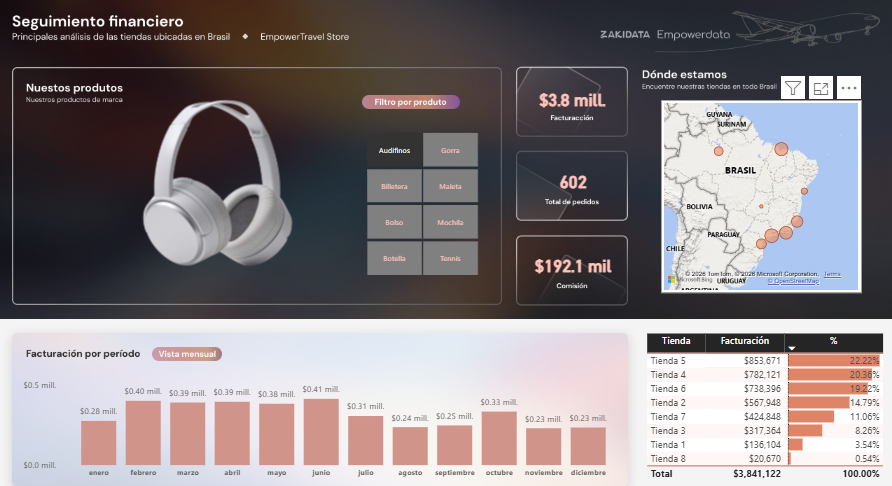

The page's visual inventory and layout, read from the dashboard file:
{"tool":"powerbi","page":{"name":"Página 1","canvas":[1280,720],"ordinal":0},"visuals":[{"type":"columnChart","fields":{"Category":["RegistroVentas.Fecha_ Pedido.Variación.Jerarquía de fechas.Mes"],"Y":["RegistroVentas.Facturación"]},"box":[30.9,517.8,868,180.6],"z":0},{"type":"ImageGrid_FC5183B9_926C_45E0_B5F7_0CE9EAF1DA9B","fields":{"ImageURLHQ":["Productos.img_url"]},"box":[0,26.8,609.5,481.4],"z":1000},{"type":"card","fields":{"Values":["RegistroVentas.Facturación"]},"box":[671.5,89.2,298.1,114.5],"z":2000},{"type":"card","fields":{"Values":["CountNonNull(RegistroVentas.Qtde)"]},"box":[683.7,218.6,274.5,89.2],"z":3000},{"type":"card","fields":{"Values":["RegistroVentas.Comisión"]},"box":[695.1,346.2,251.8,76.9],"z":4000},{"type":"tableEx","fields":{"Values":["Tiendas.nombre_Tienda","RegistroVentas.Facturación","Divide(RegistroVentas.Facturación, ScopedEval(RegistroVentas.Facturación, []))"]},"box":[920.9,475.5,352.5,222.7],"z":5000},{"type":"slicer","fields":{"Values":["Productos.descripción_producto"]},"box":[501.9,187.1,208.1,216.8],"z":6000},{"type":"map","fields":{"Category":["Tiendas.Ciudad"],"X":["Sum(Tiendas.Longitud)"],"Y":["Sum(Tiendas.Latitud)"],"Size":["RegistroVentas.Facturación"]},"box":[947.1,147.1,287.1,275.7],"z":7000}]}

Visuals, with their boxes on the page's 1280x720 design canvas (x1, y1, x2, y2). These are canvas units, not pixel positions in the 892x486 screenshot, which may show the page scaled, cropped or inside an application window:
columnChart - RegistroVentas.Fecha_ Pedido.Variación.Jerarquía de fechas.Mes x RegistroVentas.Facturación: <bbox>31, 518, 899, 698</bbox>
ImageGrid_FC5183B9_926C_45E0_B5F7_0CE9EAF1DA9B - Productos.img_url: <bbox>0, 27, 610, 508</bbox>
card - RegistroVentas.Facturación: <bbox>672, 89, 970, 204</bbox>
card - CountNonNull(RegistroVentas.Qtde): <bbox>684, 219, 958, 308</bbox>
card - RegistroVentas.Comisión: <bbox>695, 346, 947, 423</bbox>
tableEx - Tiendas.nombre_Tienda x RegistroVentas.Facturación: <bbox>921, 476, 1273, 698</bbox>
slicer - Productos.descripción_producto: <bbox>502, 187, 710, 404</bbox>
map - Tiendas.Ciudad x Sum(Tiendas.Longitud): <bbox>947, 147, 1234, 423</bbox>
